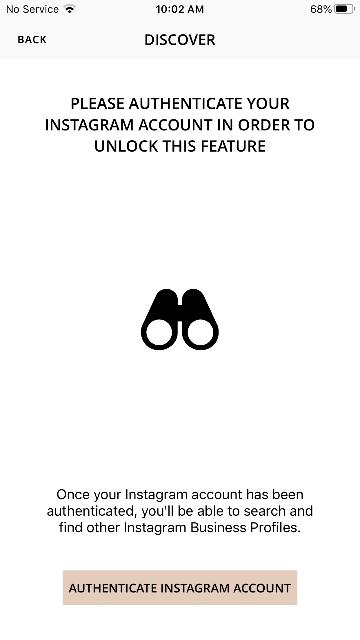Image: (142, 288, 218, 349)
Text: (46, 98, 314, 152), (47, 489, 312, 535), (69, 584, 291, 592), (145, 34, 215, 46), (18, 36, 46, 42)
TextButton: (63, 571, 297, 605)
Toolbar: (0, 15, 360, 58)
UpperTaskBar: (0, 0, 360, 14)
